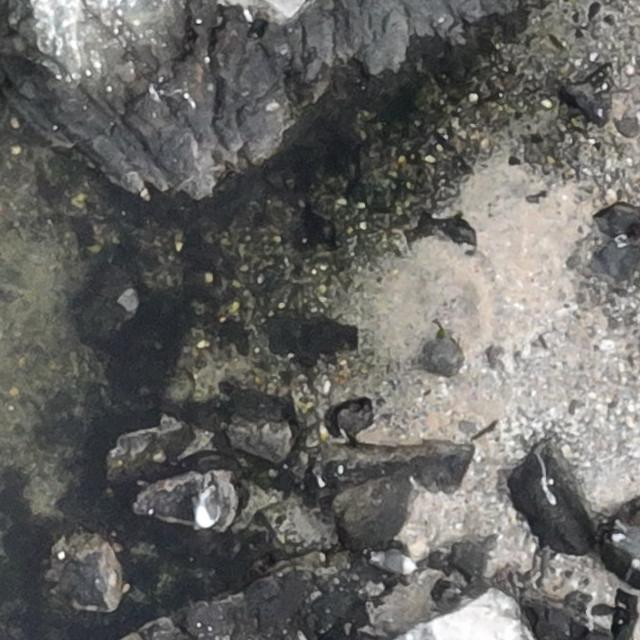umineko: (196, 486, 223, 528), (376, 552, 414, 571)
